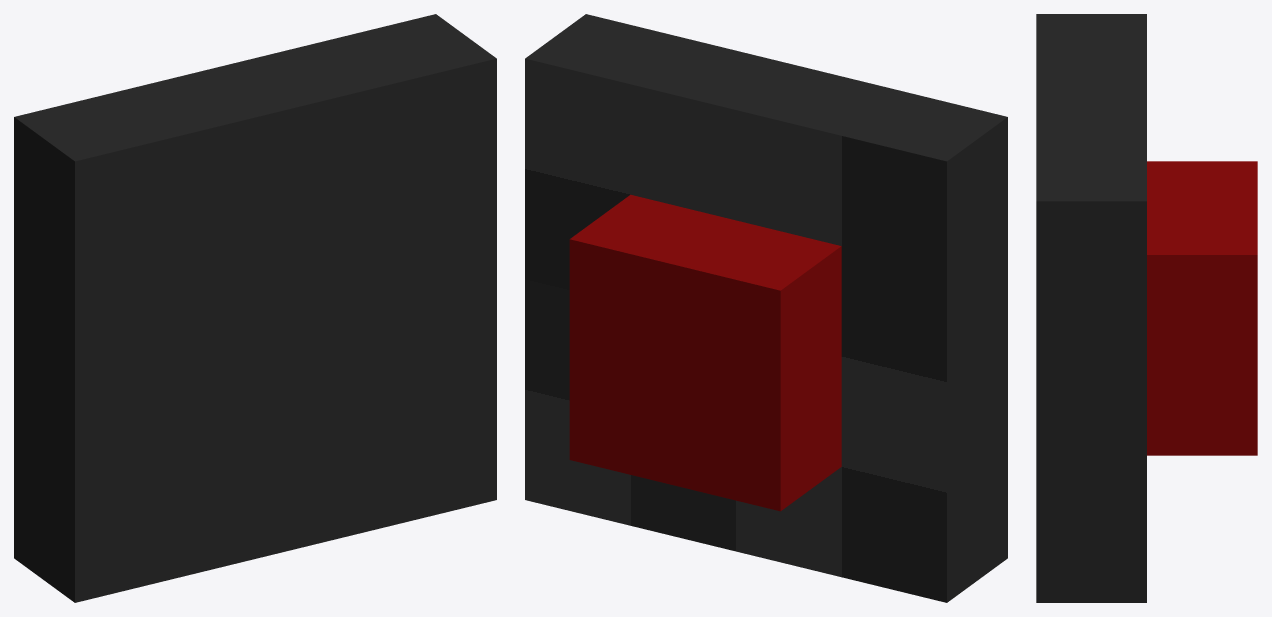
Rendered from button.gltf.
3 views of the same model, side by side, from view 1: azimuth 30°, elevation 25°; view 2: azimuth 150°, elevation 25°; view 3: azimuth 270°, elevation 25° (orthographic). The views are drawn at different scales.
Parts seen in each view (by area): view 1: cube (×2); view 2: cube (×2); view 3: cube (×2).
Part boxes in pixels (x1=…): cube (×2): x1=14, y1=14, x2=496, y2=602; cube (×2): x1=525, y1=14, x2=1007, y2=602; cube (×2): x1=1036, y1=14, x2=1257, y2=602.
Bounding box in the file's own units: 0.25 × 0.25 × 0.125.
1 material, 1 textured.
